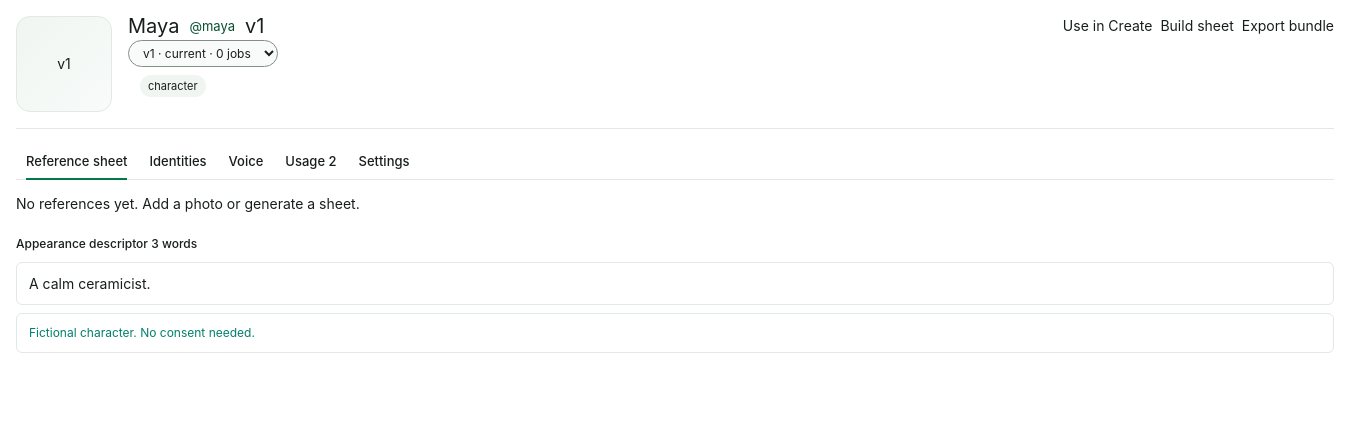
Test case: the Usage tab (F-CHR-11, PRD-07:580) › reports the count, the spend and the consistency band, and filters the grid
Click the tab "Usage 2": {"x": 311, "y": 161} [275, 143, 346, 179]
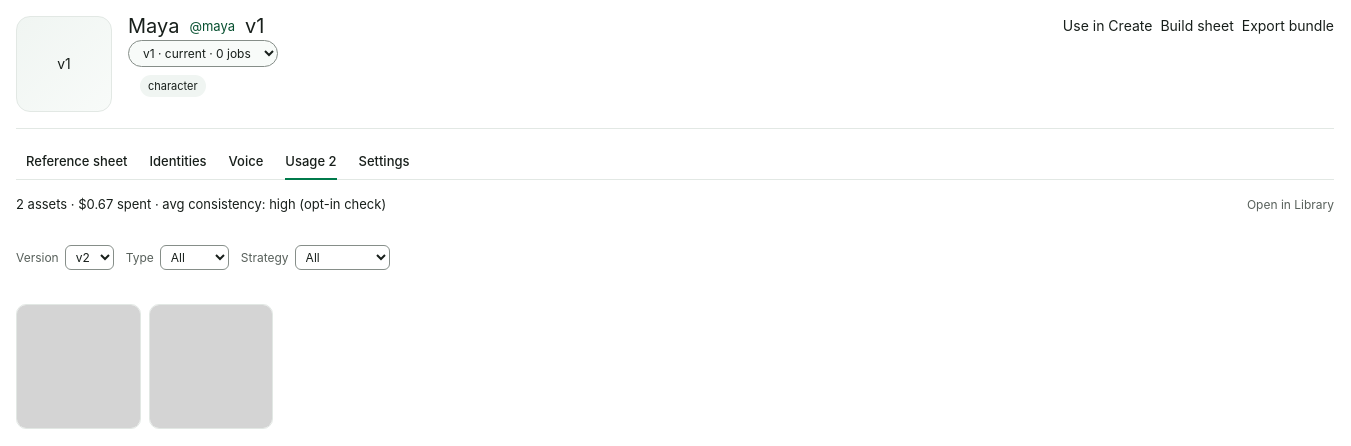
Check: the text with class "character-usage-summary" reads "2 assets · $0.67 spent · avg consistency: high (opt-in check)", box [16, 194, 386, 214]
Select "v2" in the dropdown labelled "Version": {"x": 89, "y": 258} [65, 245, 114, 270]
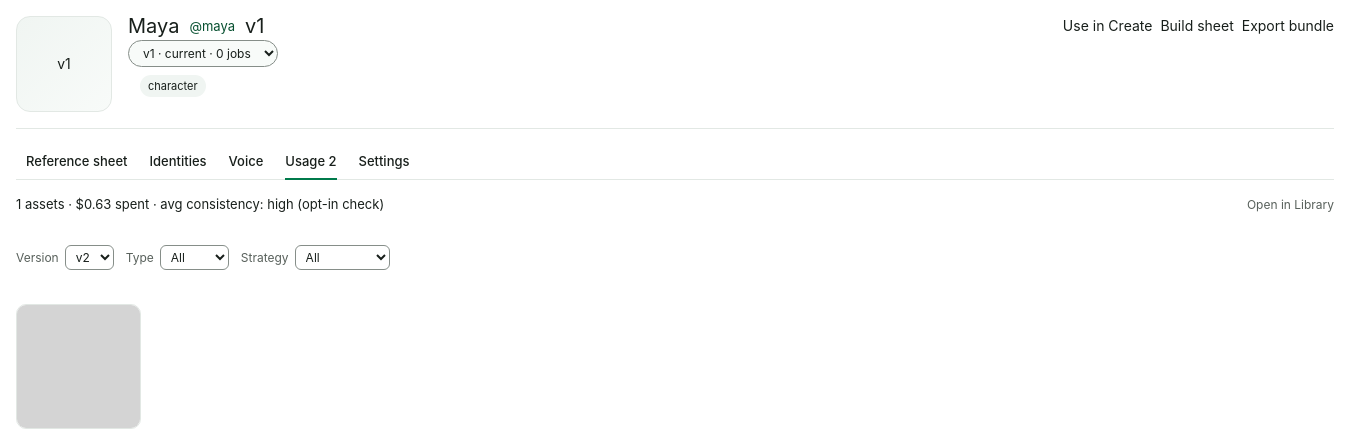
Check: the text with class "character-usage-summary" reads "1 assets · $0.63 spent · avg consistency: high (opt-in check)", box [16, 194, 384, 214]
